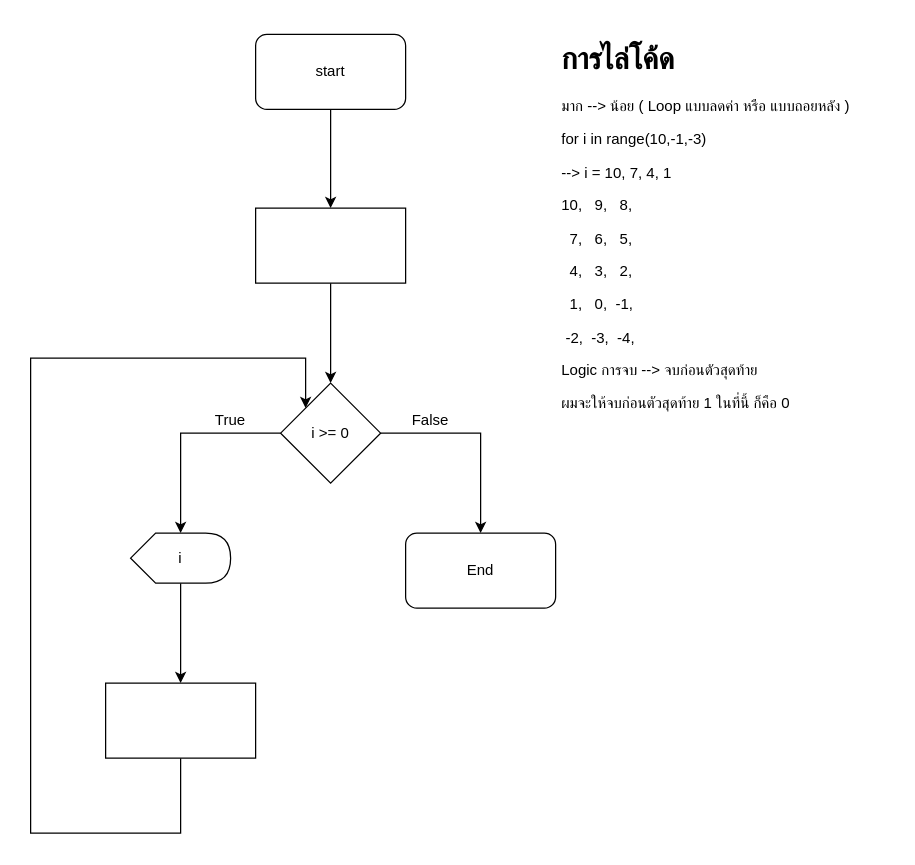
The diagram is 915 pixels wide and 865 high, and some of its shapes have lost their labels. The centre of each missing label's shape, as x and y in pixels:
i -= 3: point (180, 720)
i = 10: point (330, 245)
